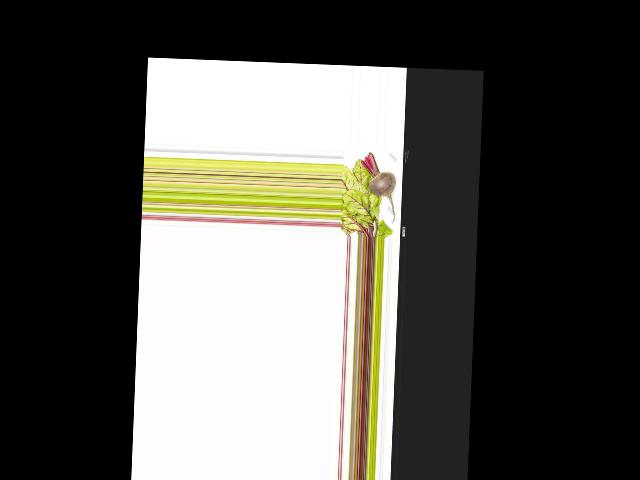beet: (358, 151, 397, 222)
